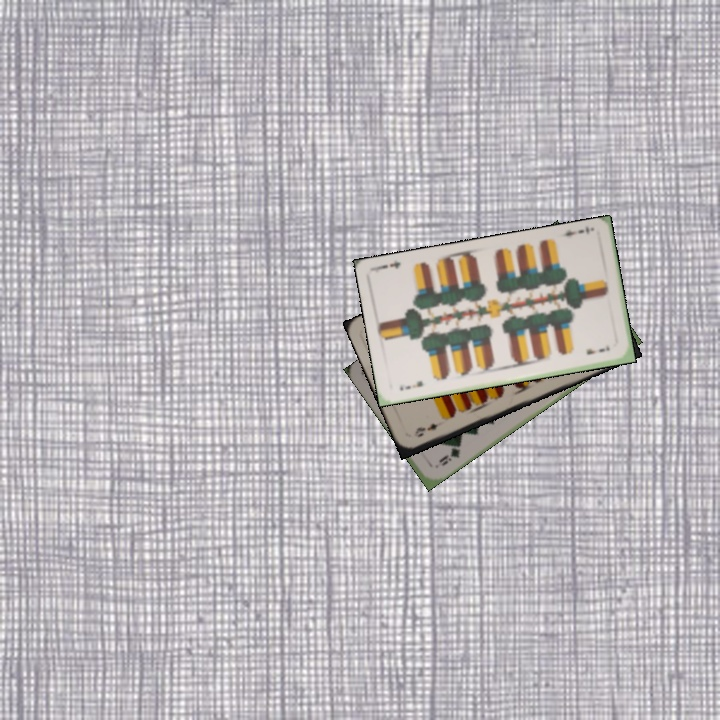E7: (556, 222, 592, 239), (396, 376, 426, 393)
E9: (410, 419, 440, 440)
G9: (435, 440, 464, 469)
